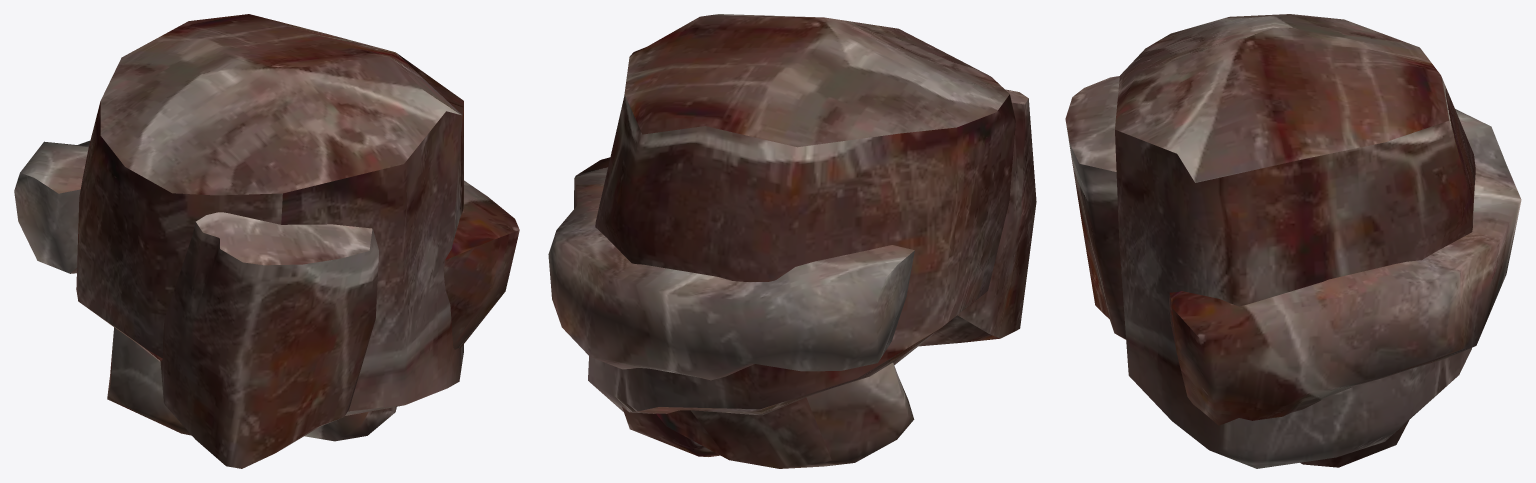
The picture shows the model from 3 angles, left to right: view 1: azimuth 30°, elevation 25°; view 2: azimuth 150°, elevation 25°; view 3: azimuth 270°, elevation 25°; orthographic projection. The views are drawn at different scales.
Parts seen in each view (by area): view 1: SM_Iron_Ore_Medium_01_LOD0; view 2: SM_Iron_Ore_Medium_01_LOD0; view 3: SM_Iron_Ore_Medium_01_LOD0.
Part boxes in pixels (box(x1,y1,x2,y2)): SM_Iron_Ore_Medium_01_LOD0: box(14, 14, 519, 468); SM_Iron_Ore_Medium_01_LOD0: box(548, 14, 1036, 468); SM_Iron_Ore_Medium_01_LOD0: box(1065, 14, 1521, 468).
Size of the model in its own units: 0.2491 by 0.2454 by 0.261.
